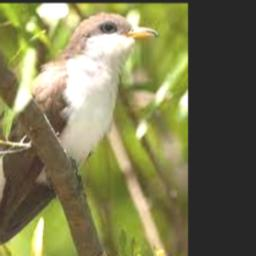Cuckoo: (0, 12, 160, 256)
